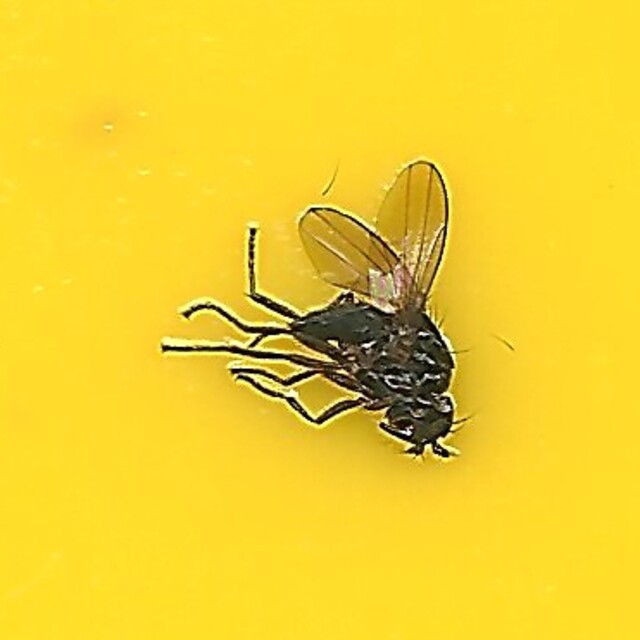Brachycera: (173, 168, 467, 472)
